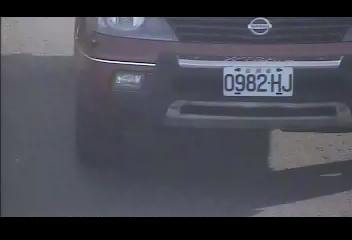plate: (221, 66, 295, 97)
